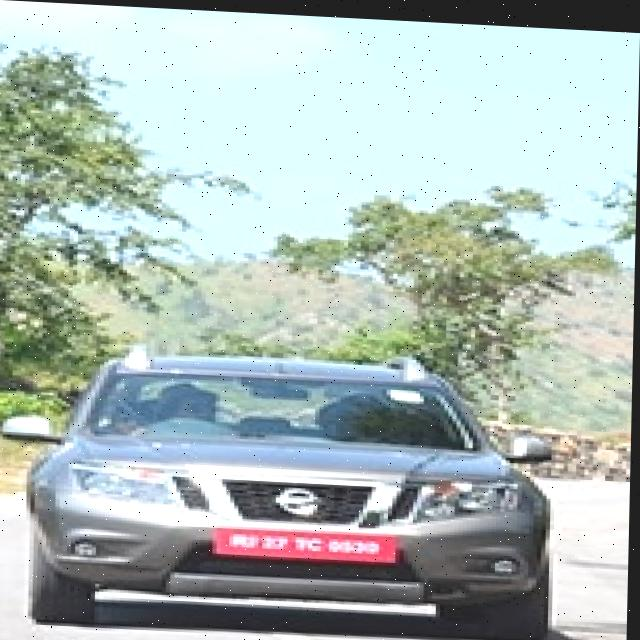plate: (217, 524, 405, 556)
